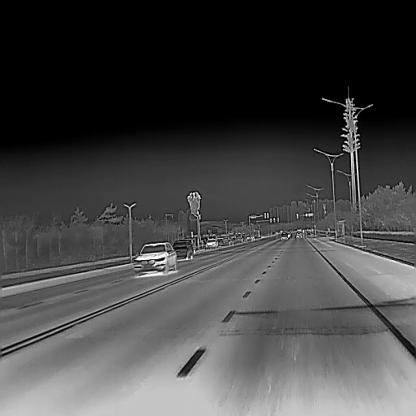car: (130, 240, 178, 274), (172, 240, 193, 259), (203, 238, 218, 249), (279, 232, 288, 240), (294, 230, 302, 238)
